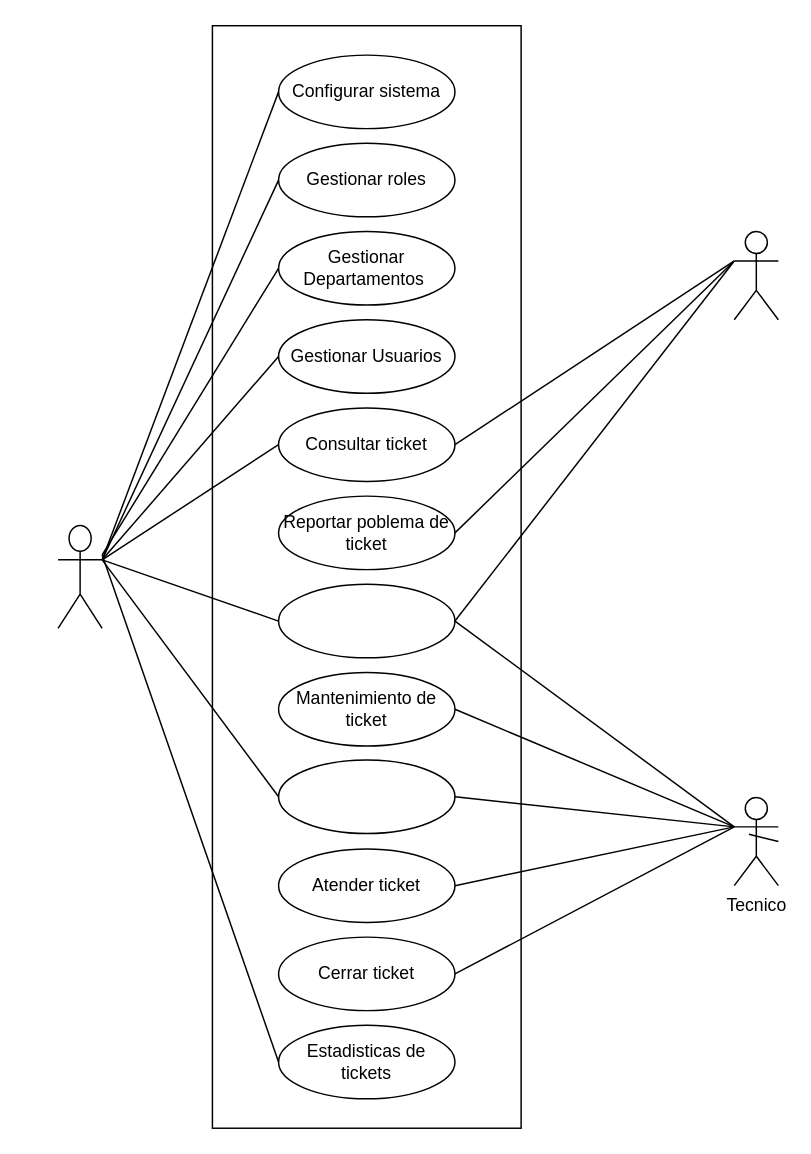
Image size: 811x1154. Some labels were removed from this diagram. Each missing label, with the box of its shape:
Administrador: (57, 524, 102, 628)
Agregar nota a ticket: (277, 583, 455, 658)
Modificar estado de ticket: (277, 759, 455, 833)
Usuario: (733, 230, 778, 320)
